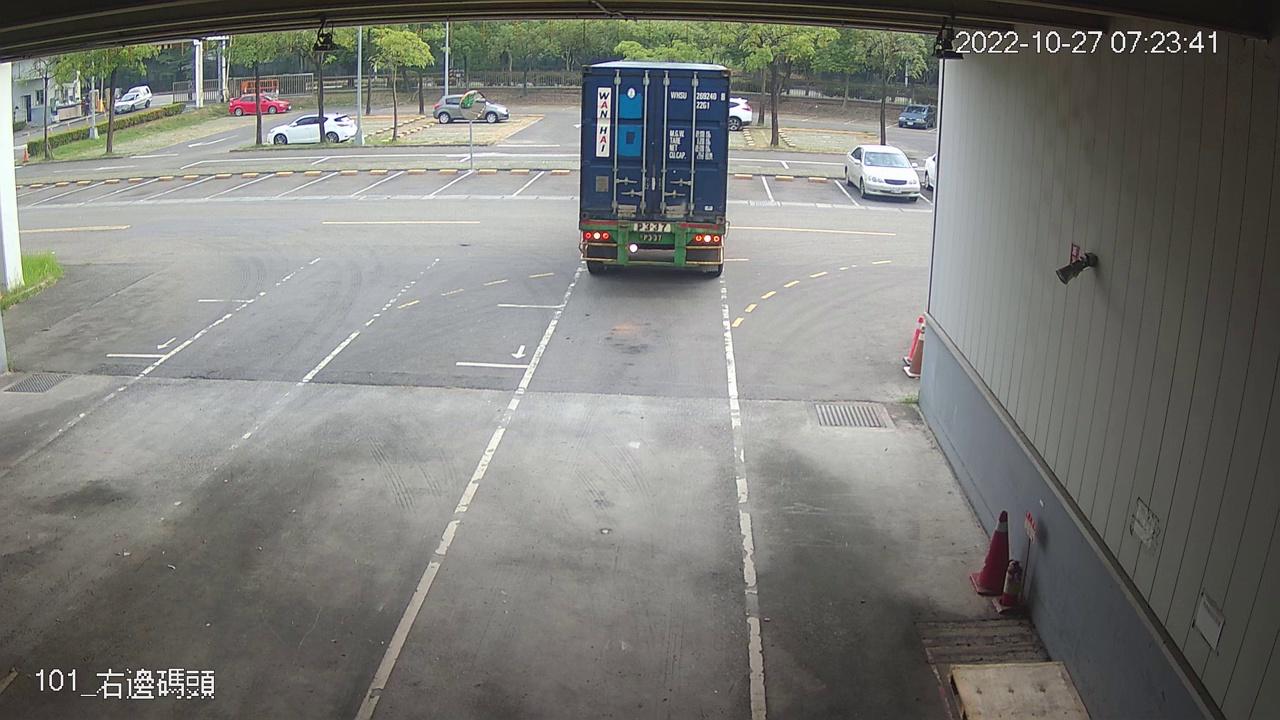container: (666, 87, 728, 114)
